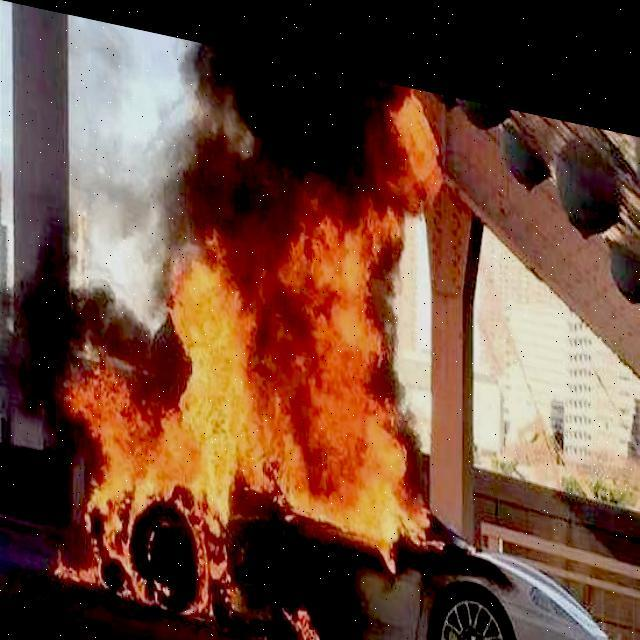Fire: (69, 60, 431, 639)
